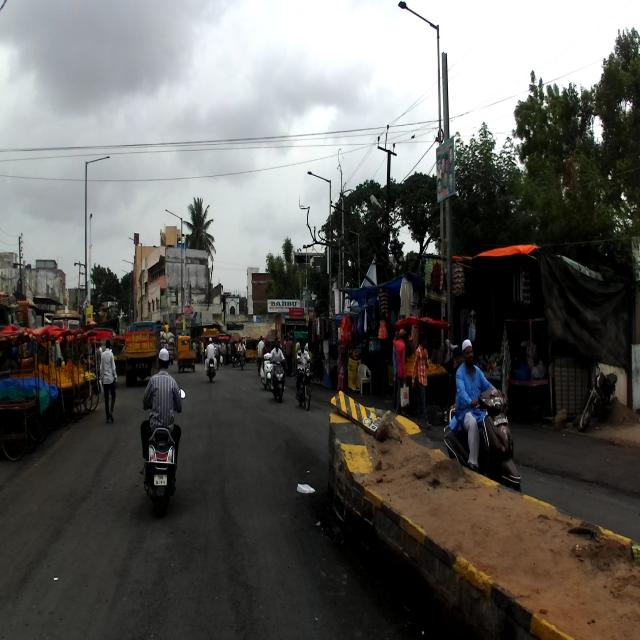motorcycle: (576, 356, 617, 432)
scooter: (443, 385, 522, 492), (138, 386, 185, 515)
